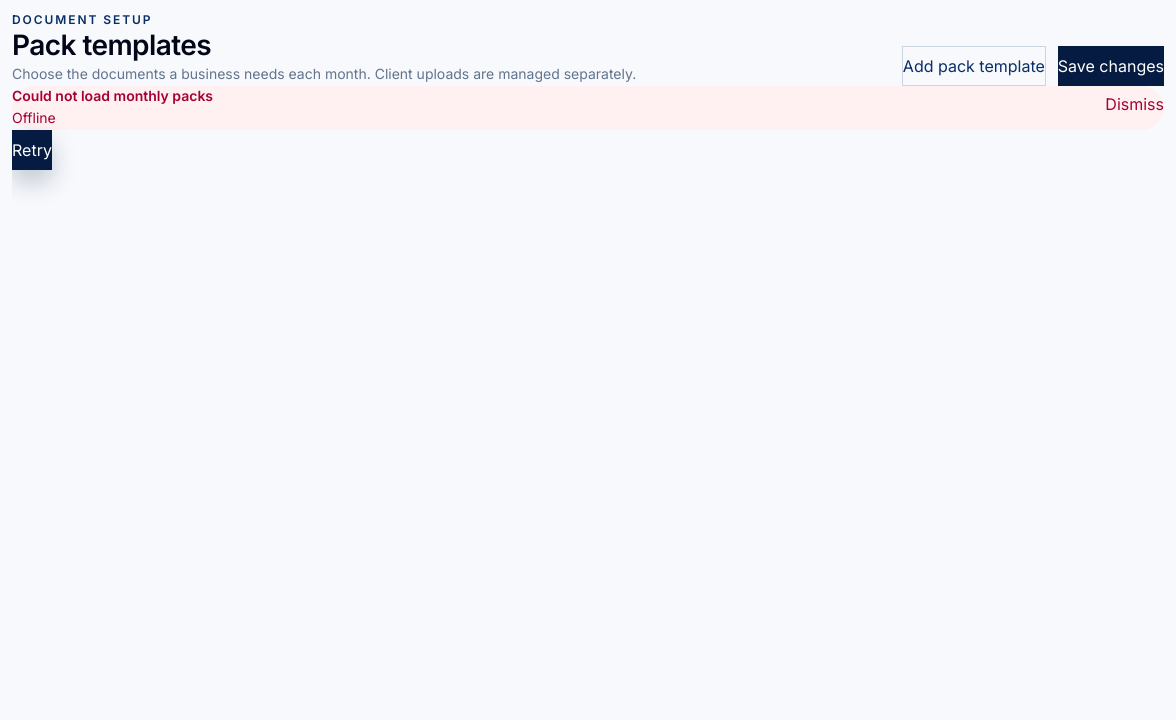
admin monthly packs › blocks edits when requirements fail to load and supports retry
Expected: the text "Could not load monthly packs" is shown, [12,86,213,106]
Expected: the button "Save changes" is disabled, [1058,46,1164,86]
Step 1. Click the button "Retry" → (32, 150), box [12,130,52,170]
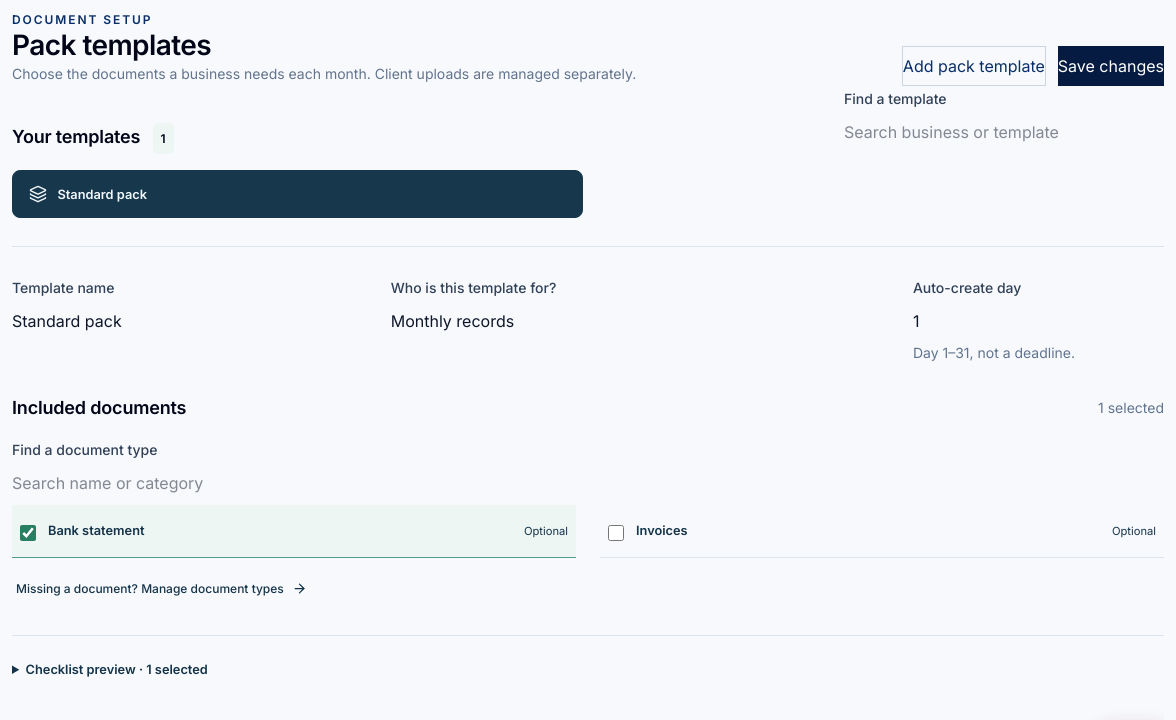
Result: the field showing "Standard pack" is shown at [12,299,371,343]
